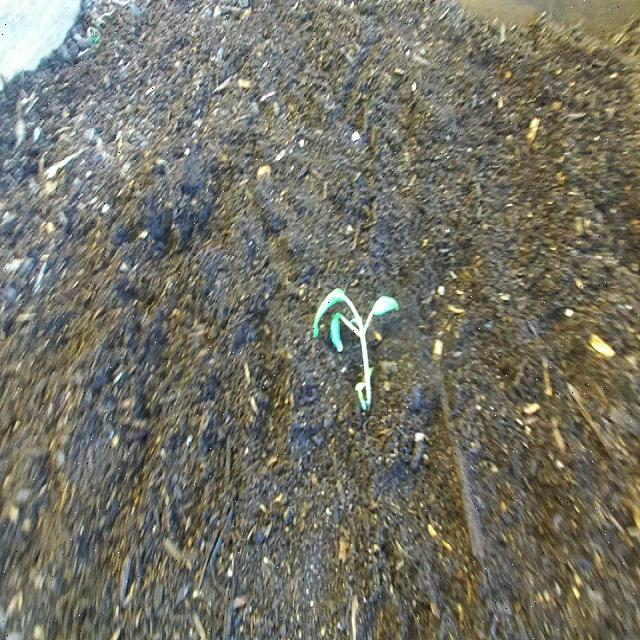Healthy: (311, 281, 402, 416)
